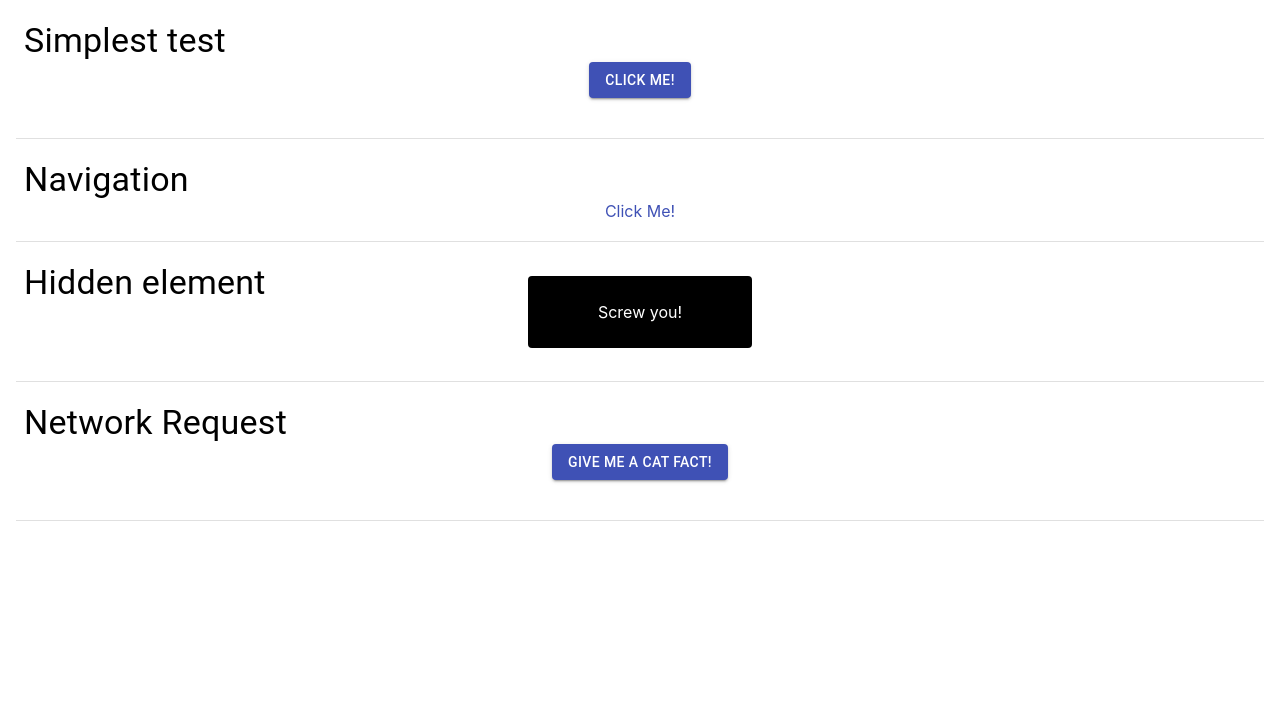
Scenario: Examples › Example 1: simplest test
The width and height of the screenshot is (1280, 720).
Click the button with id "button1": (640, 81) [589,62,691,99]
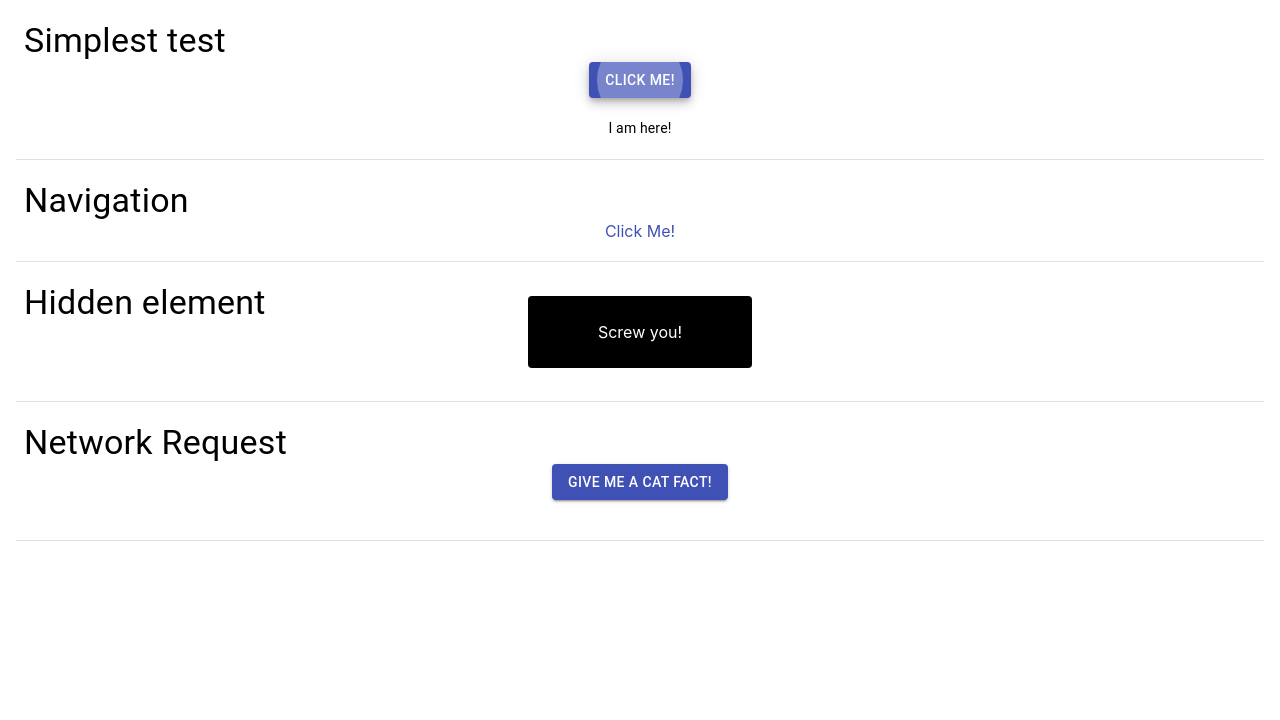
Check: the text "I am here!" is shown, box [608,120,671,136]
